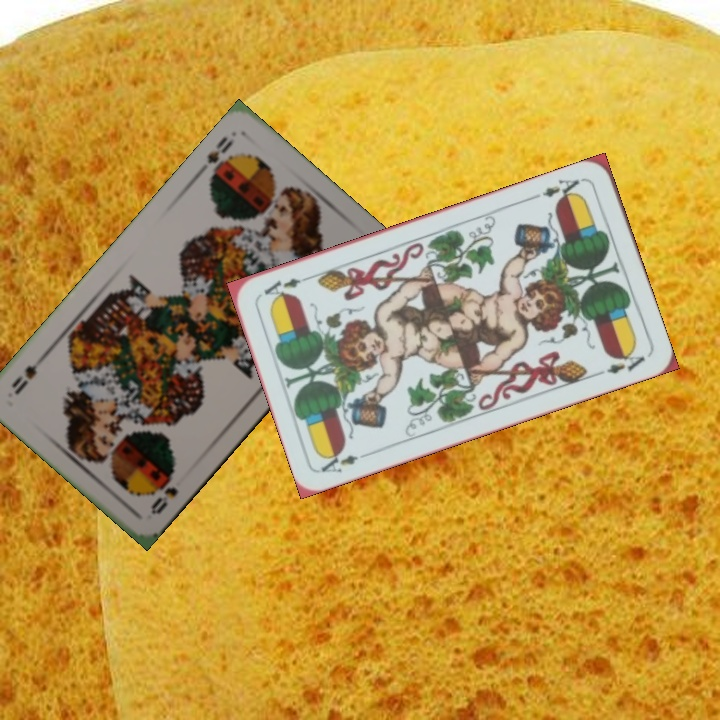EA: (316, 447, 374, 476), (538, 174, 587, 205)
SO: (194, 128, 239, 183), (146, 466, 181, 517)
